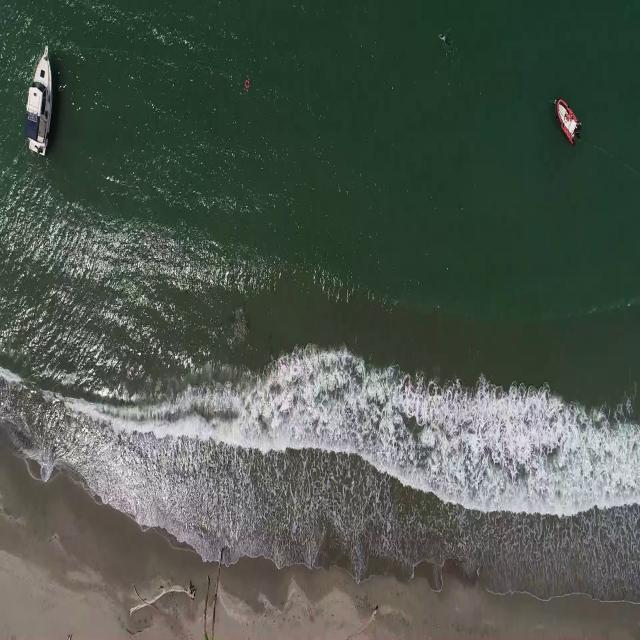boat: (23, 41, 51, 152), (552, 98, 583, 145)
life_buoy: (241, 77, 252, 91)
person: (438, 27, 452, 52)
wood: (127, 578, 195, 616), (199, 545, 225, 640), (351, 602, 380, 634)
